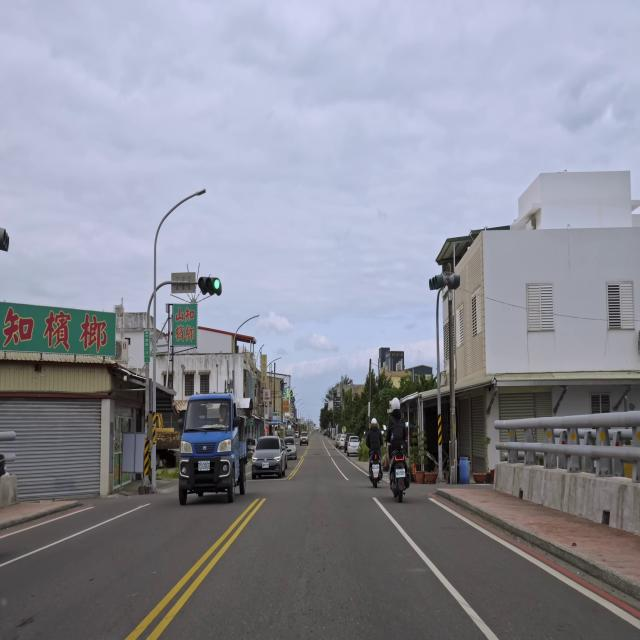green light: (198, 276, 222, 296)
